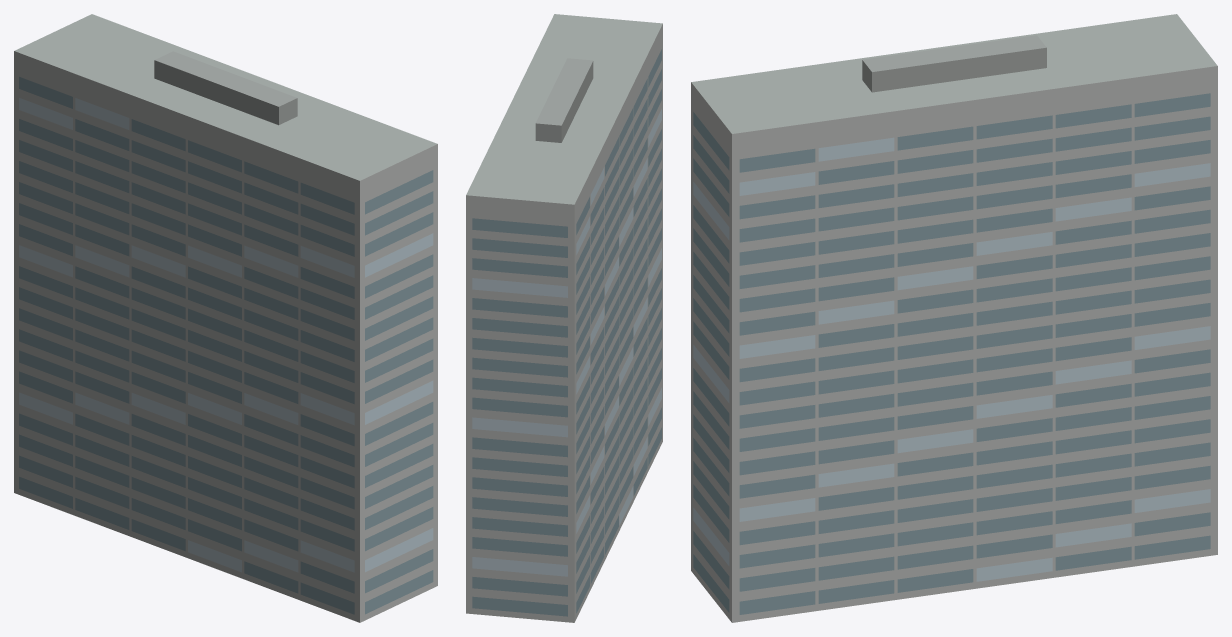
The model's file is fallback-songpa-helio-city-308.glb.
The picture shows the model from 3 angles, left to right: view 1: azimuth 30°, elevation 25°; view 2: azimuth 150°, elevation 25°; view 3: azimuth 270°, elevation 25°; orthographic projection. The views are drawn at different scales.
Visible parts, largest first — view 1: fallback-songpa-helio-city-308; view 2: fallback-songpa-helio-city-308; view 3: fallback-songpa-helio-city-308.
Part boxes in pixels (x1,y1,x2,y2): fallback-songpa-helio-city-308: (14, 14, 437, 622); fallback-songpa-helio-city-308: (466, 14, 662, 622); fallback-songpa-helio-city-308: (691, 14, 1217, 622).
Bounding box in the file's own units: 30.35 × 60 × 56.24.
